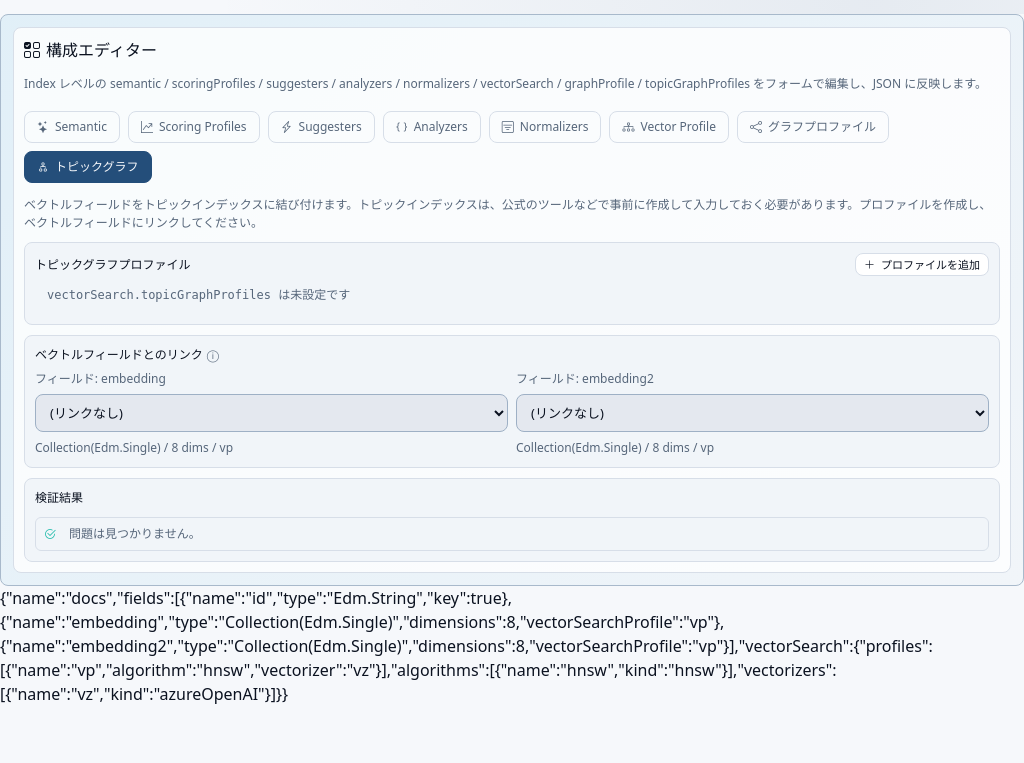
IndexSchemaConfigurationEditorPanel topic graph editor › adds a profile, links the first vector field and hides properties the kind does not allow
This screenshot has width=1024, height=763.
Click the button "プロファイルを追加".
click(922, 265)  # box [855,253,989,276]
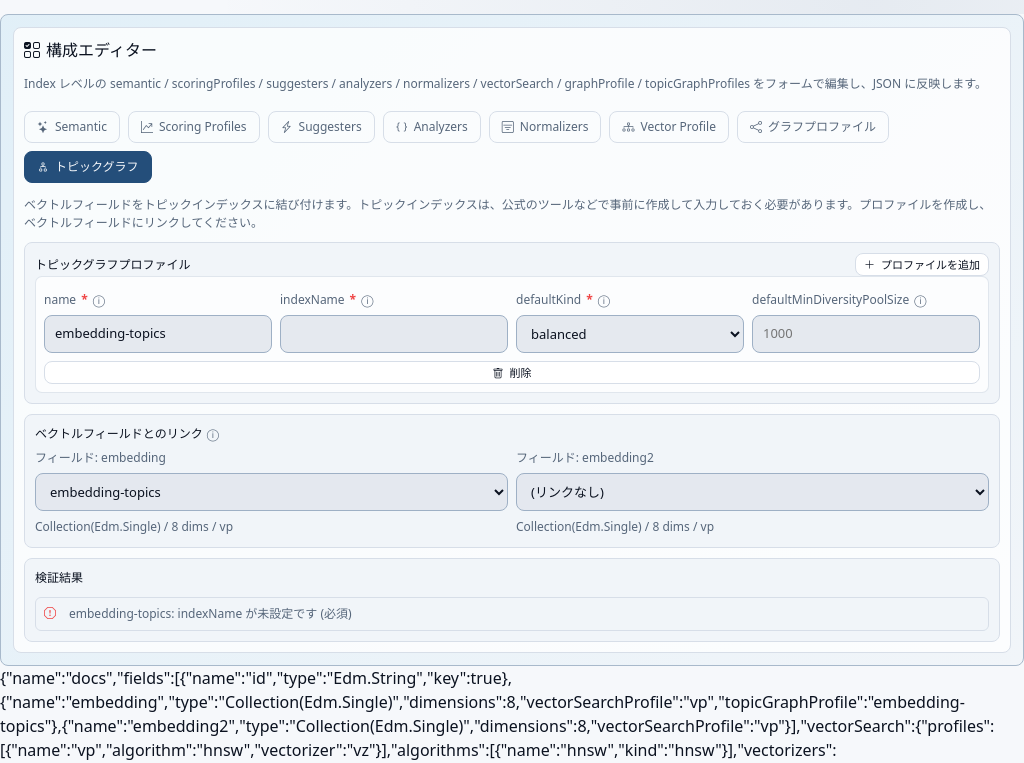
Expected: the text "defaultDiversityFactor" is not shown
Expected: the field labelled "name" holds "embedding-topics", [44,315,272,353]
Expected: the text "defaultMinDiversityPoolSize" is shown, [752,291,909,309]
Select "diverse" in the dropdown labelled "defaultKind * ⓘ" at (630, 334), box [516,315,744,353]
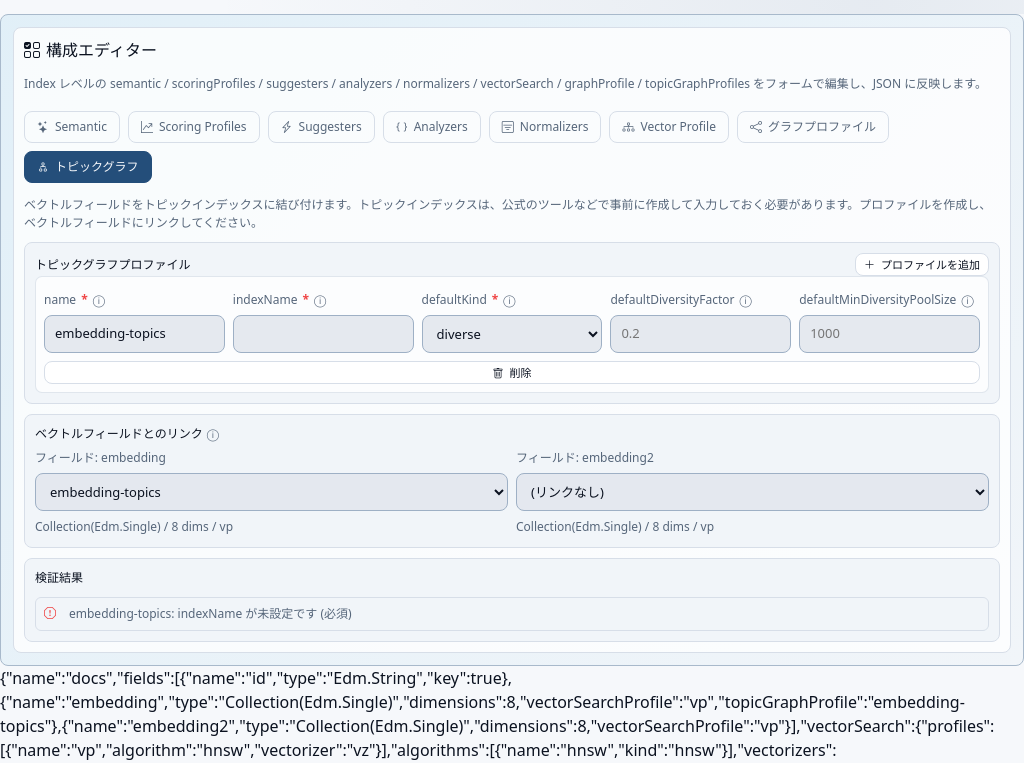
Expected: the text "defaultDiversityFactor" is shown, [610,291,734,309]
Type "500" into the number field labelled "defaultMinDiversityPoolSize ⓘ".
click(890, 334); type("500")  # box [799,315,980,353]
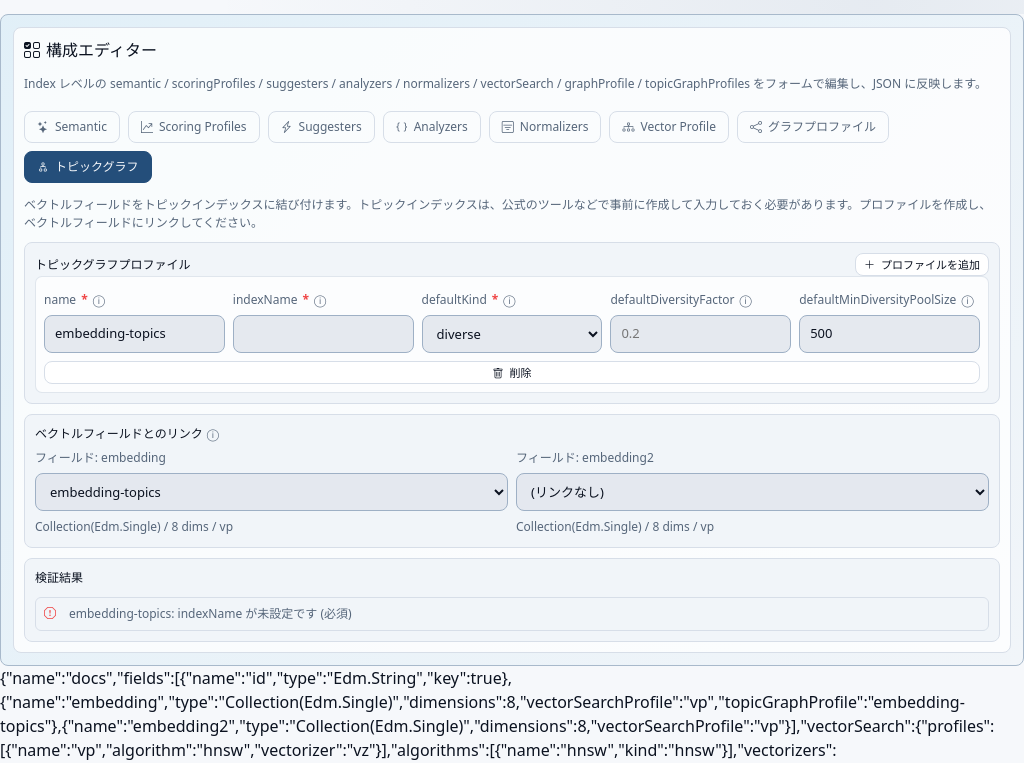
Select "none" in the dropdown labelled "defaultKind * ⓘ" at (512, 334), box [422,315,602,353]
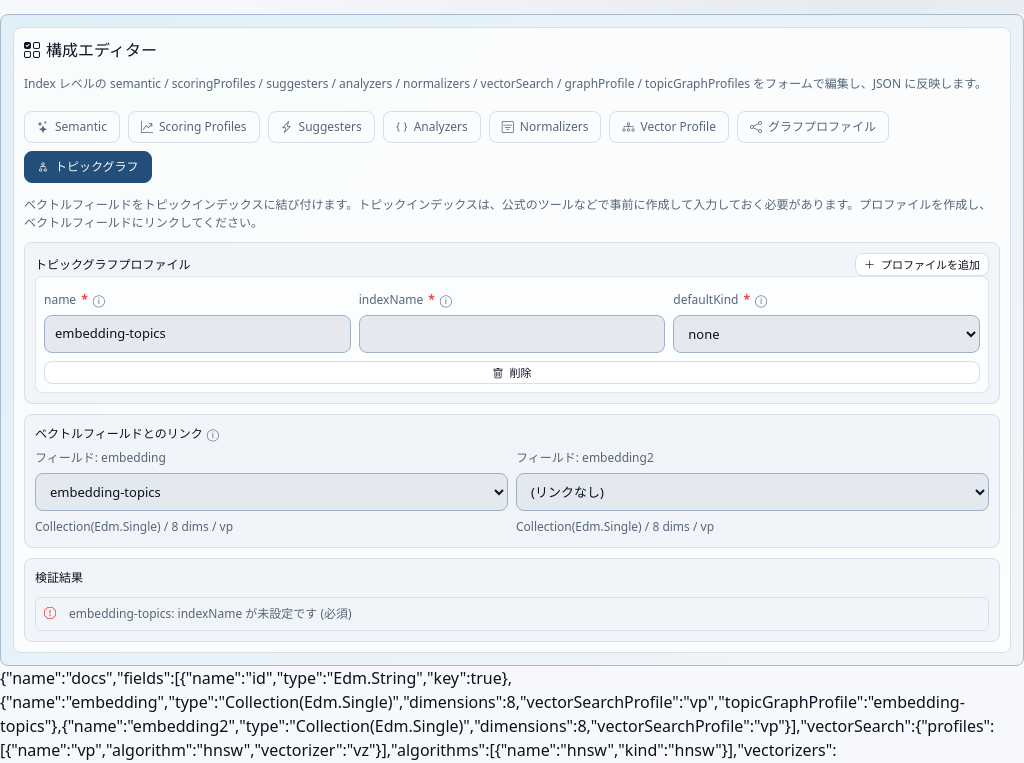
Expected: the text "defaultDiversityFactor" is gone
Expected: the text "defaultMinDiversityPoolSize" is gone
